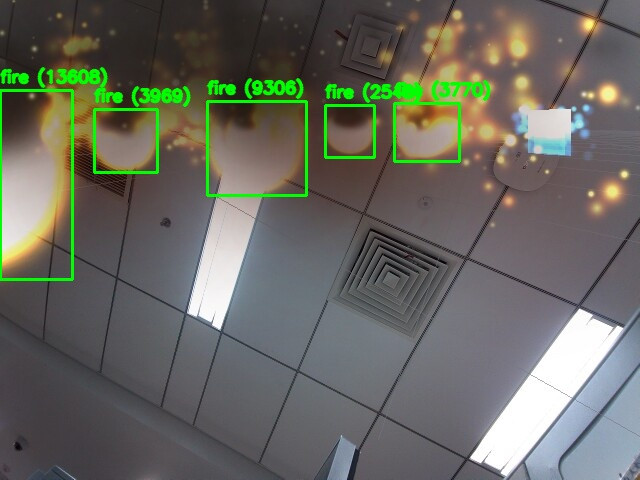fire: (0, 90, 72, 279), (207, 101, 306, 195), (94, 109, 157, 172), (394, 103, 459, 161), (325, 105, 374, 157)
